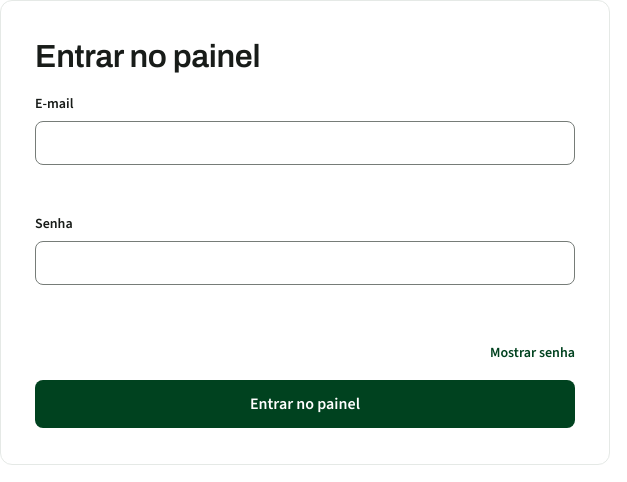
it: LoginForm — validação acessível ADM-01 › rejeita um e-mail com formato invalido
This screenshot has width=627, height=482.
Type "email-invalido" into the field labelled "E-mail" at point(305, 143), box [35, 121, 575, 165]
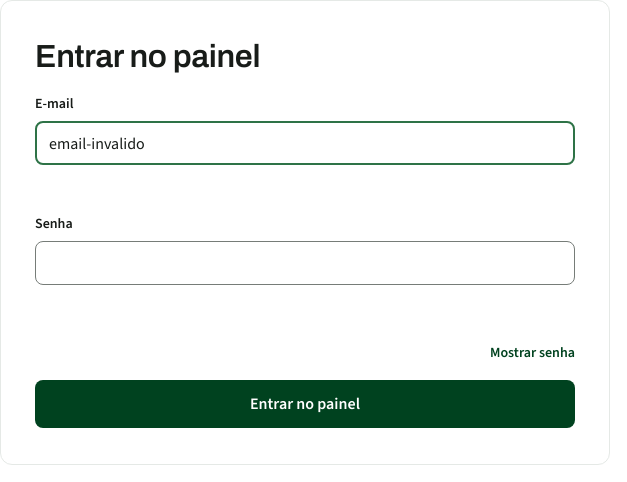
Type "SenhaFicticia123!" into the password field labelled "Senha" at point(305, 263), box [35, 241, 575, 285]
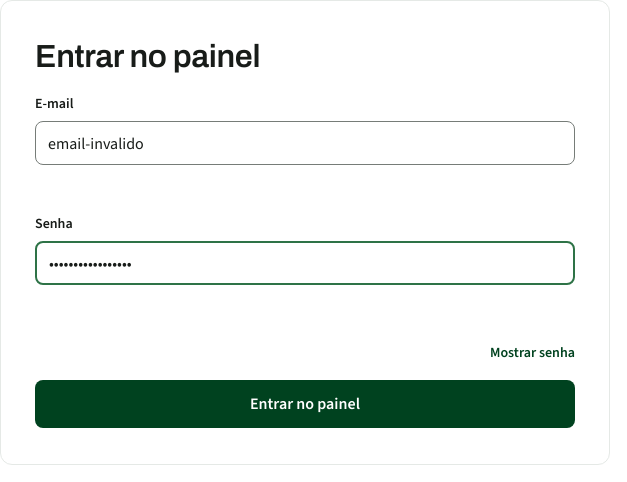
Click the button "Entrar no painel" at point(305, 404), box [35, 380, 575, 428]
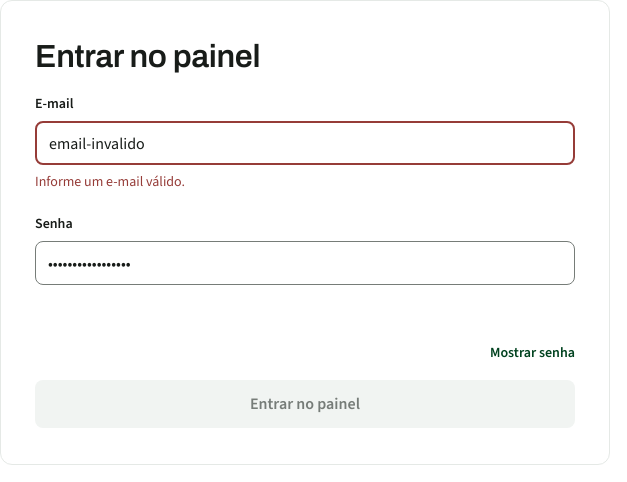
Now the text "Informe um e-mail válido." is shown, box [35, 172, 185, 191]
